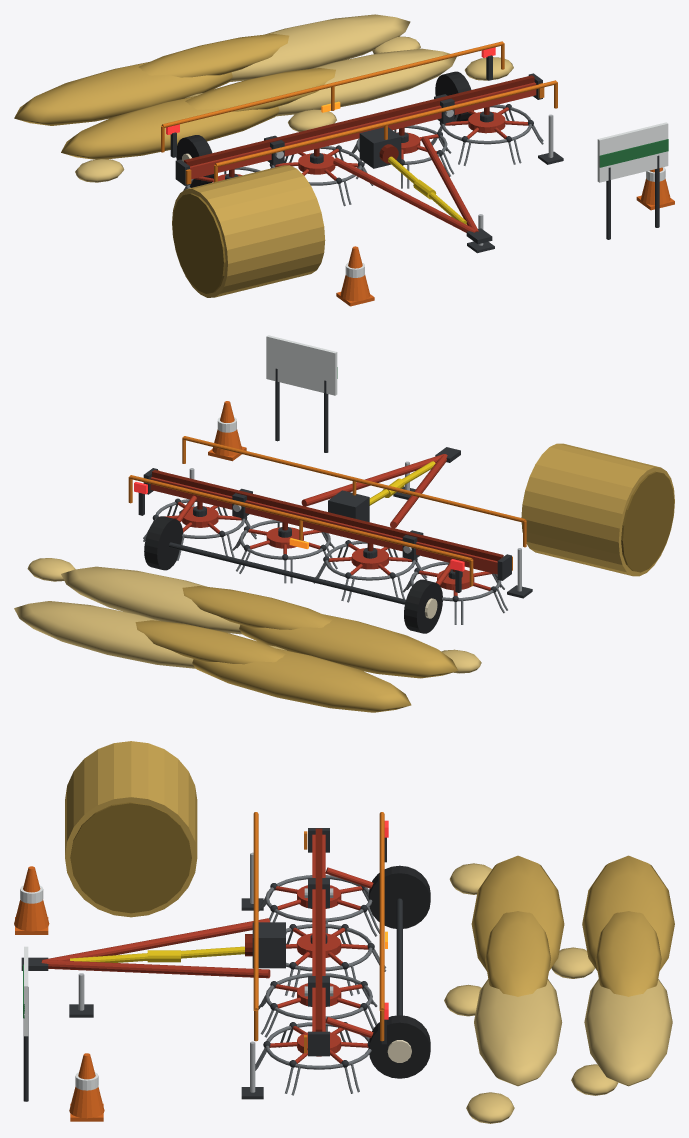
Rendered from hay_tedder.glb.
The picture shows the model from 3 angles, top to bottom: view 1: azimuth 30°, elevation 25°; view 2: azimuth 150°, elevation 25°; view 3: azimuth 270°, elevation 25°; orthographic projection. The views are drawn at different scales.
Visible parts, largest first — view 1: FieldProps, TedderFrame, RotorD, RotorB, RotorC; view 2: FieldProps, TedderFrame, RotorB, RotorC, RotorD, RotorA; view 3: FieldProps, TedderFrame, RotorD, RotorB, RotorC, RotorA.
Boxes of the visible parts, box(x1,y1,x2,y2) form: FieldProps: box(14, 14, 674, 306); TedderFrame: box(161, 41, 563, 253); RotorD: box(431, 104, 543, 165); RotorB: box(269, 145, 373, 206); RotorC: box(349, 125, 454, 188); FieldProps: box(14, 335, 674, 712); TedderFrame: box(128, 436, 532, 633); RotorB: box(313, 540, 427, 602); RotorC: box(232, 520, 337, 583); RotorD: box(143, 498, 256, 560); RotorA: box(403, 561, 507, 624); FieldProps: box(14, 741, 674, 1123); TedderFrame: box(21, 812, 430, 1099); RotorD: box(255, 1022, 371, 1095); RotorB: box(285, 924, 386, 997); RotorC: box(258, 973, 377, 1037); RotorA: box(258, 875, 379, 936).
Size of the model in its own units: 5.75 by 1.21 by 5.98.
